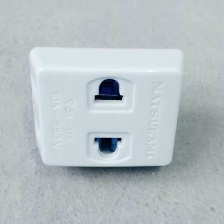three_eye_plug: (23, 40, 189, 174)
